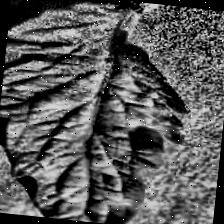leaf mold: (0, 0, 195, 224)
